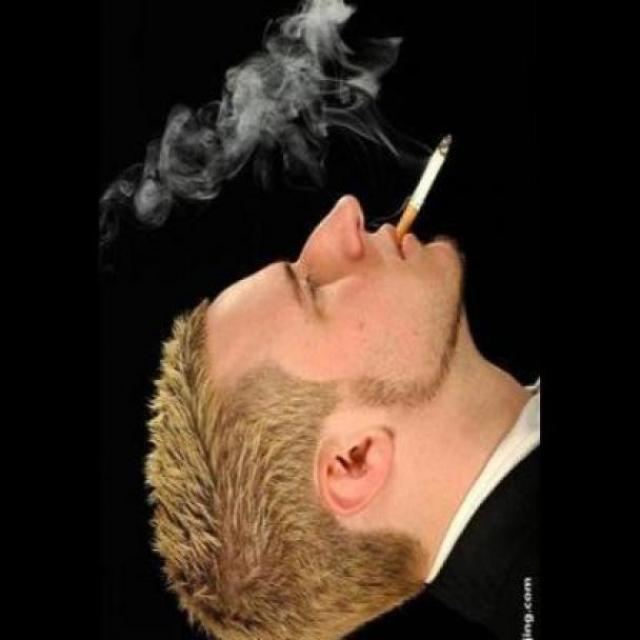rokok: (395, 132, 457, 235)
